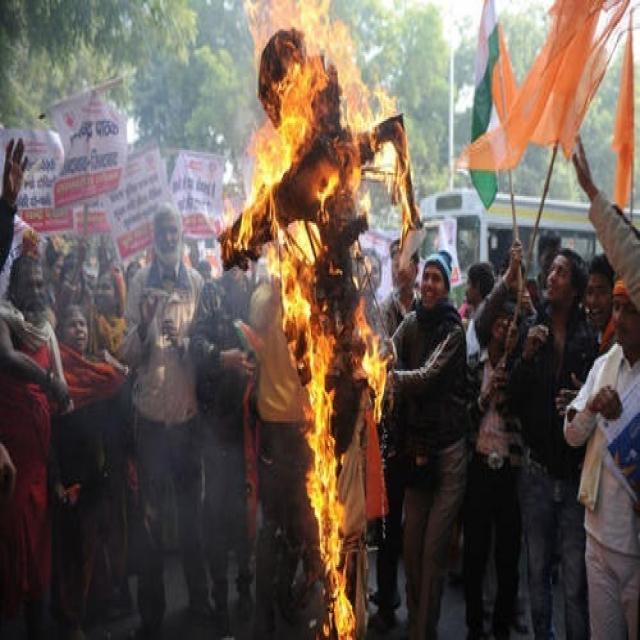Fire: (216, 2, 422, 640)
